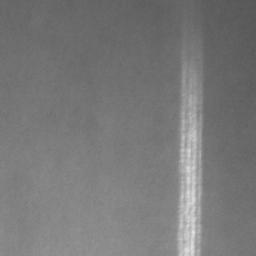Bright scratch: (177, 35, 205, 256)
